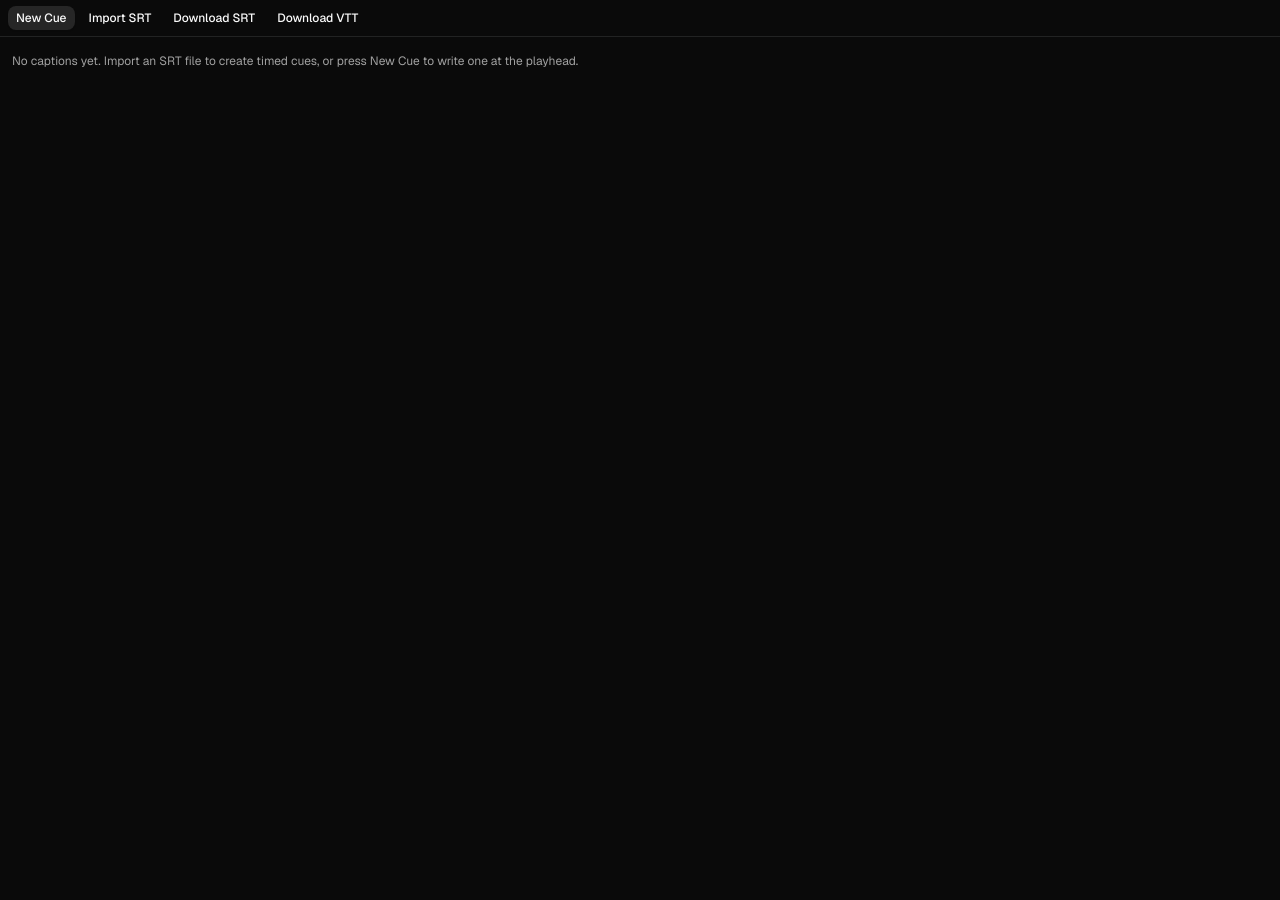
CaptionsPanel (0.8.5) › New Cue past the supported range toasts instead of throwing
Click the button "New Cue" at (41, 18), box 8,6 -> 74,30
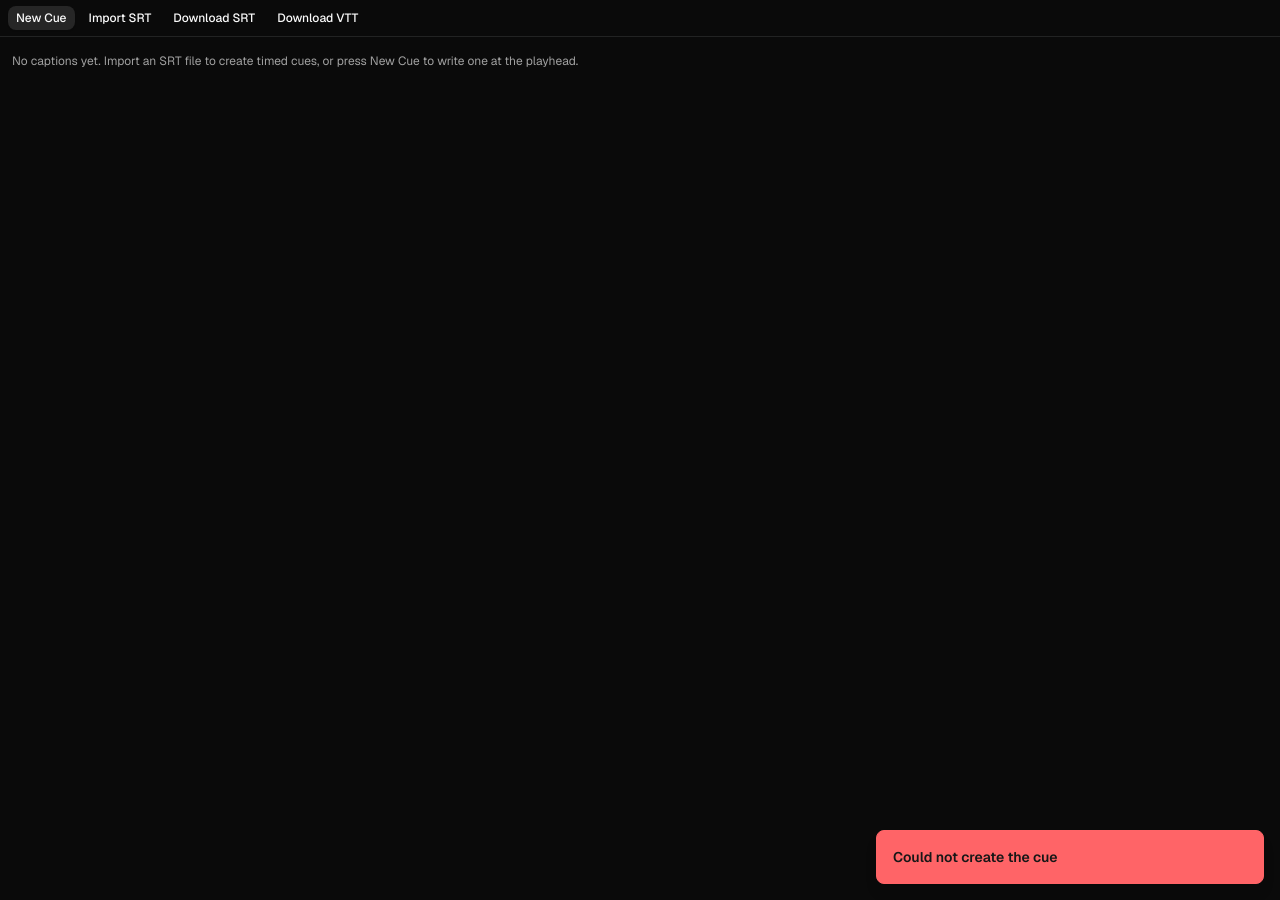
Expected: the text "Could not create the cue" is shown, 893,847 -> 1058,867
